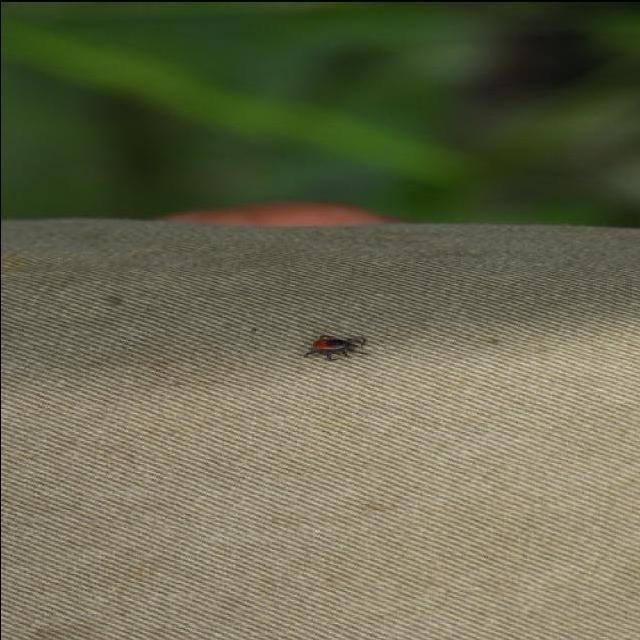Ixodes Ricinus-F: (303, 328, 364, 357)
